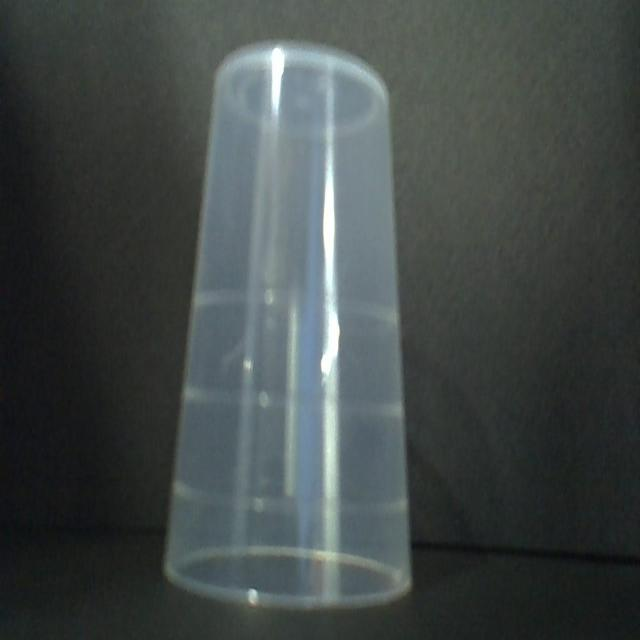cup: (161, 43, 423, 625)
